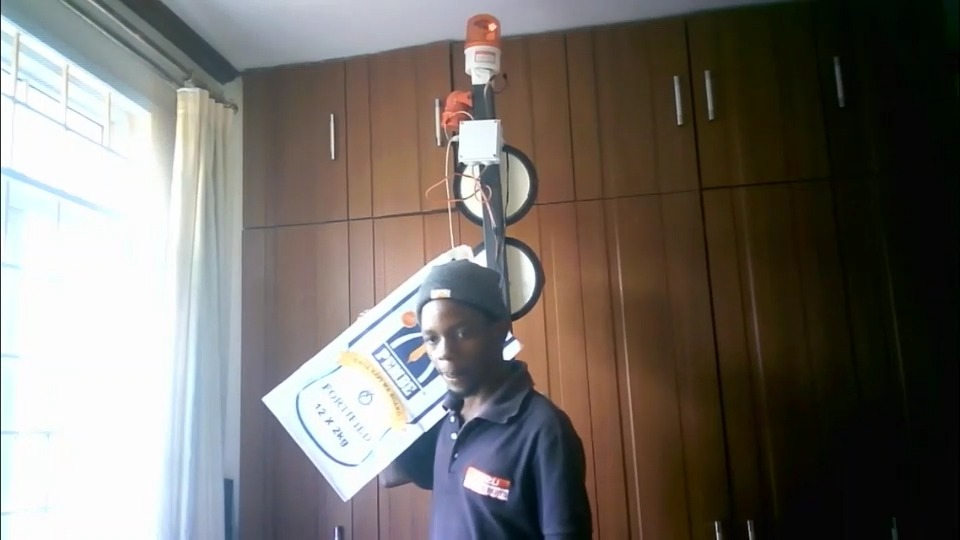wheat_flour_blue_label: (262, 249, 522, 498)
